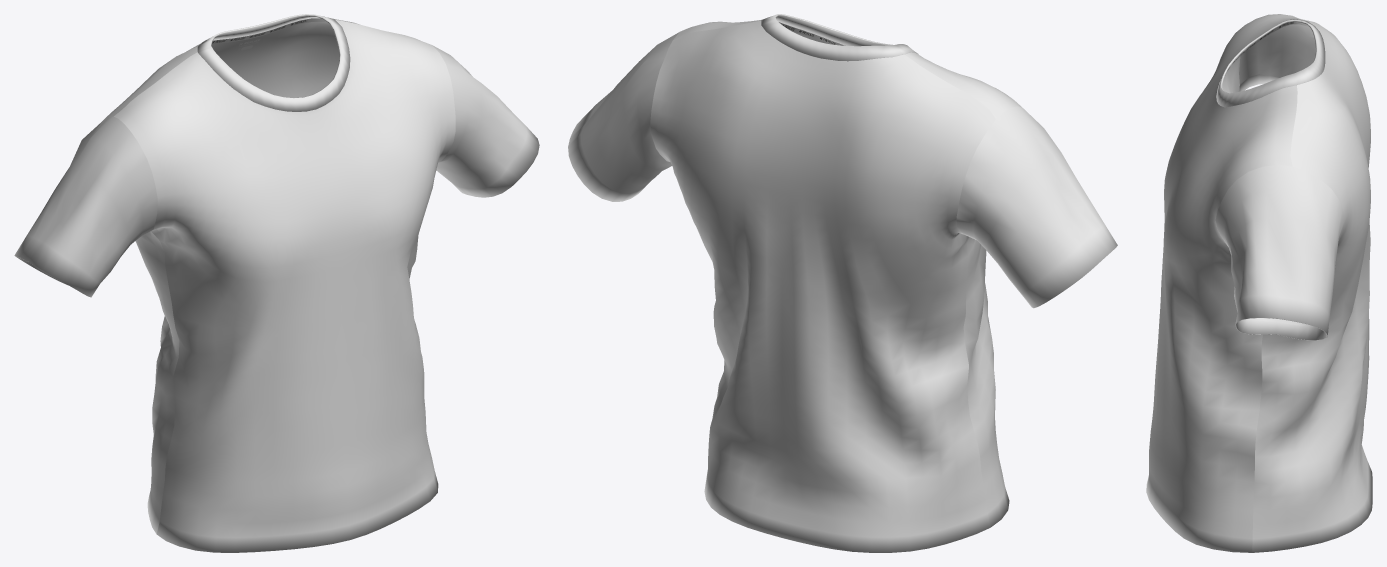
The picture shows the model from 3 angles, left to right: view 1: azimuth 30°, elevation 25°; view 2: azimuth 150°, elevation 25°; view 3: azimuth 270°, elevation 25°; orthographic projection. The views are drawn at different scales.
Parts seen in each view (by area): view 1: model_front, model_sleeve_right, model_sleeve_left, model_inside, model_back, model_collar; view 2: model_back, model_sleeve_right, model_sleeve_left, model_front, model_collar; view 3: model_front, model_back, model_sleeve_left, model_inside, model_collar, model_sleeve_right.
Boxes of the visible parts, x1,y1,x2,y2 form: model_front: [114, 20, 455, 552]; model_sleeve_right: [14, 116, 157, 297]; model_sleeve_left: [432, 45, 539, 197]; model_inside: [211, 22, 339, 97]; model_back: [106, 18, 359, 533]; model_collar: [197, 14, 350, 111]; model_back: [650, 20, 995, 552]; model_sleeve_right: [956, 106, 1117, 308]; model_sleeve_left: [568, 32, 679, 201]; model_front: [673, 19, 1021, 527]; model_collar: [761, 14, 918, 61]; model_front: [1146, 14, 1297, 552]; model_back: [1252, 16, 1372, 552]; model_sleeve_left: [1215, 164, 1344, 340]; model_inside: [1222, 24, 1315, 325]; model_collar: [1216, 19, 1325, 107]; model_sleeve_right: [1239, 74, 1278, 91].
Bounding box in the file's own units: 0.6751 × 0.5883 × 0.27.
Materials: 4 (2 with a texture image).
